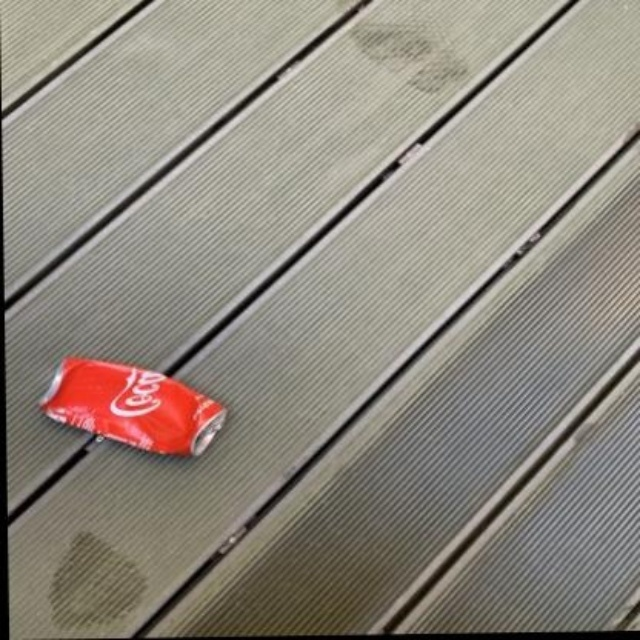trash: (40, 357, 225, 454)
